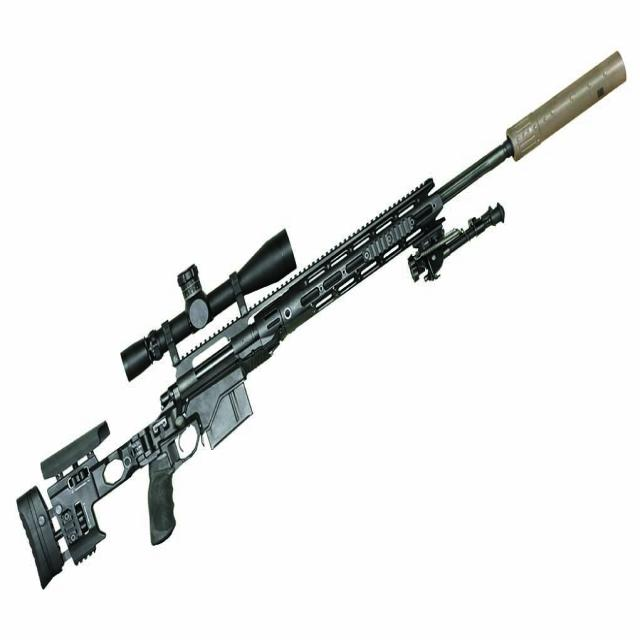Rifle: (18, 53, 628, 586)
